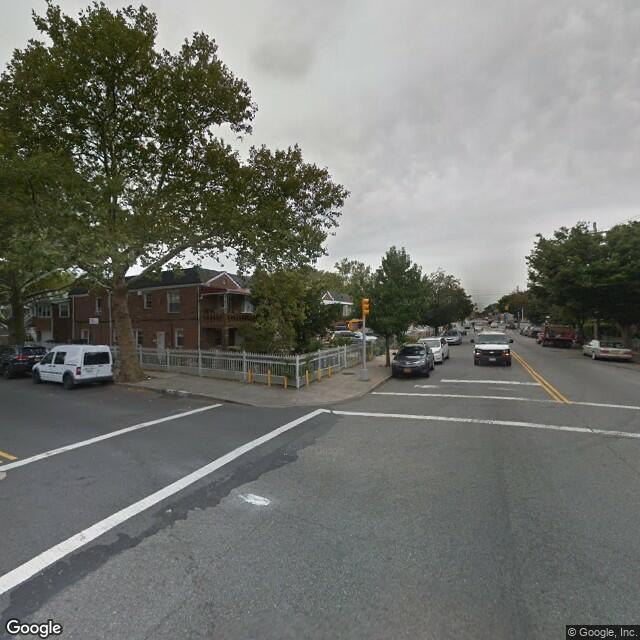litter: (145, 376, 151, 381)
